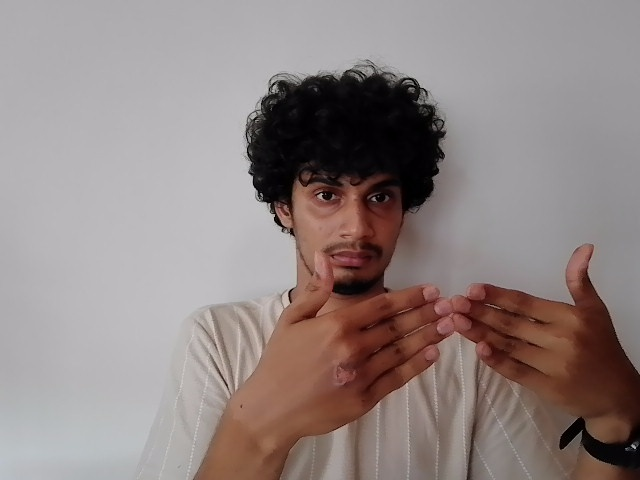family: (252, 243, 640, 421)
